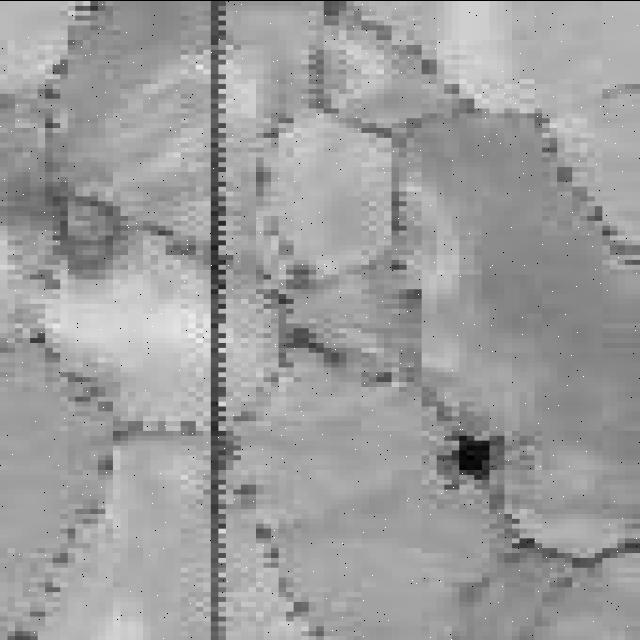good_void: (418, 423, 535, 490)
